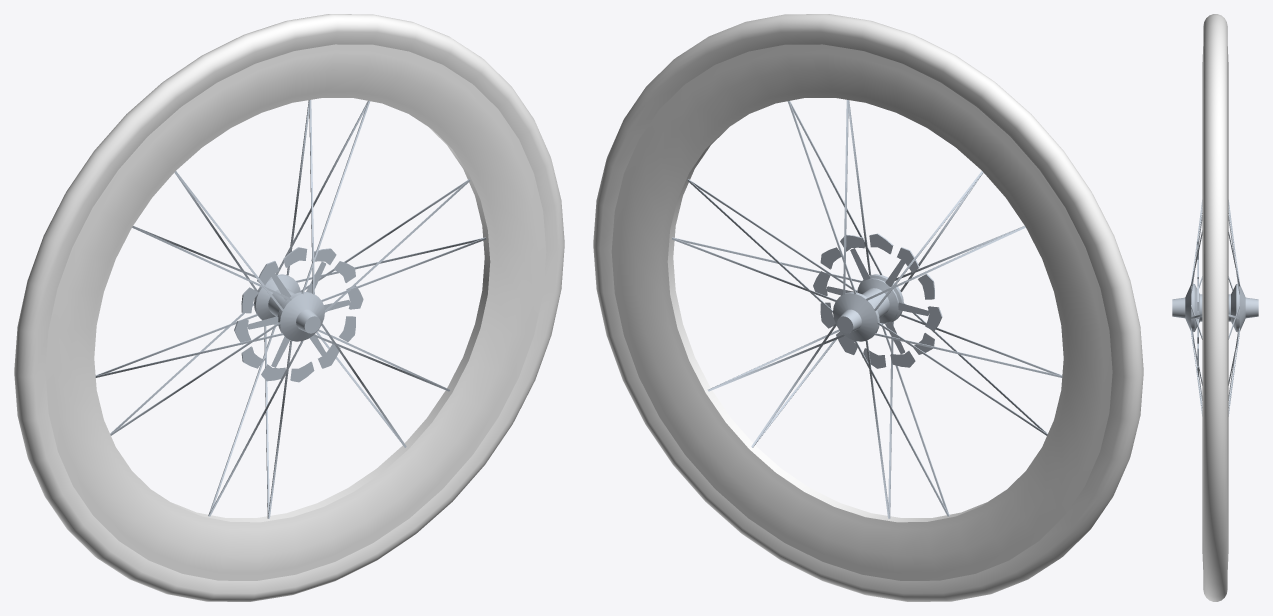
Rendered from wheel_65mm.glb.
The picture shows the model from 3 angles, left to right: view 1: azimuth 30°, elevation 25°; view 2: azimuth 150°, elevation 25°; view 3: azimuth 270°, elevation 25°; orthographic projection. The views are drawn at different scales.
Parts seen in each view (by area): view 1: wheel_65mm; view 2: wheel_65mm; view 3: wheel_65mm.
Part boxes in pixels (x1,y1,x2,y2): wheel_65mm: [14, 14, 564, 601]; wheel_65mm: [593, 14, 1143, 601]; wheel_65mm: [1172, 14, 1258, 601].
Bounding box in the file's own units: 0.6796 × 0.6796 × 0.1.
